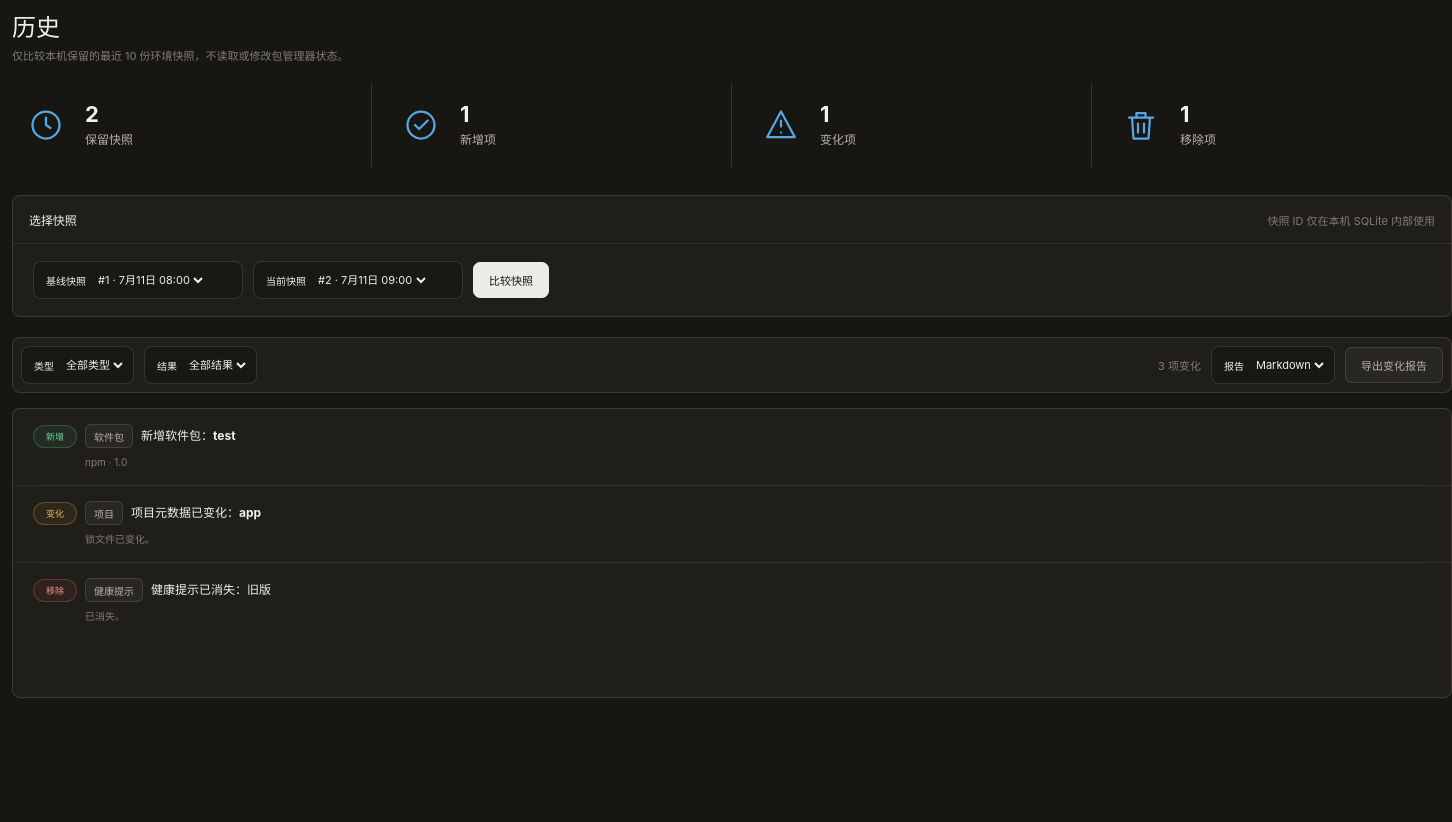
Test: HistoryPage › 拒绝倒序快照并处理变化报告导出
Select "1" in the dropdown labelled "当前快照" at (372, 280), box [314,272,429,288]
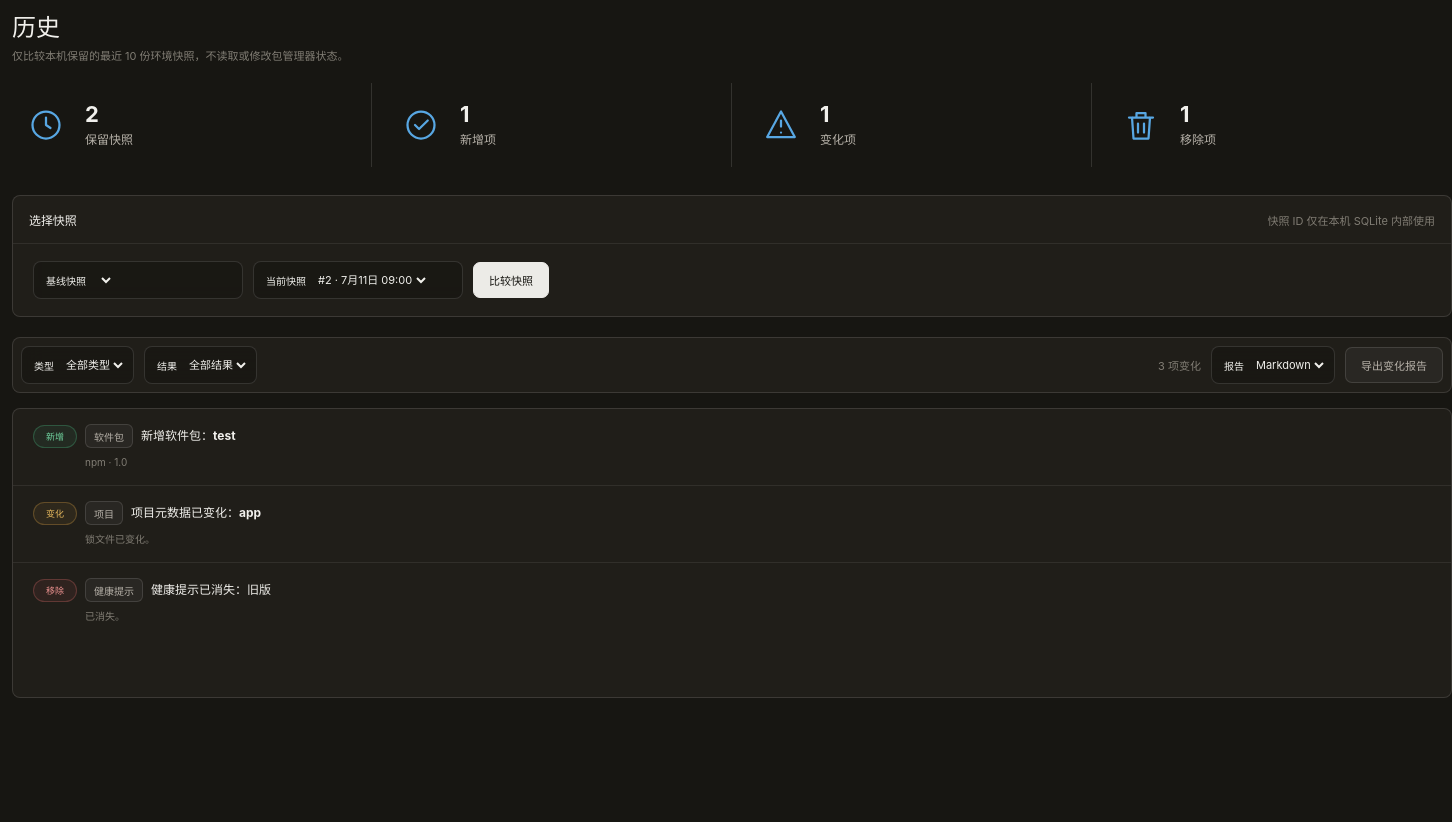
Click the button "比较快照".
click(511, 280)  # box [473,262,549,298]
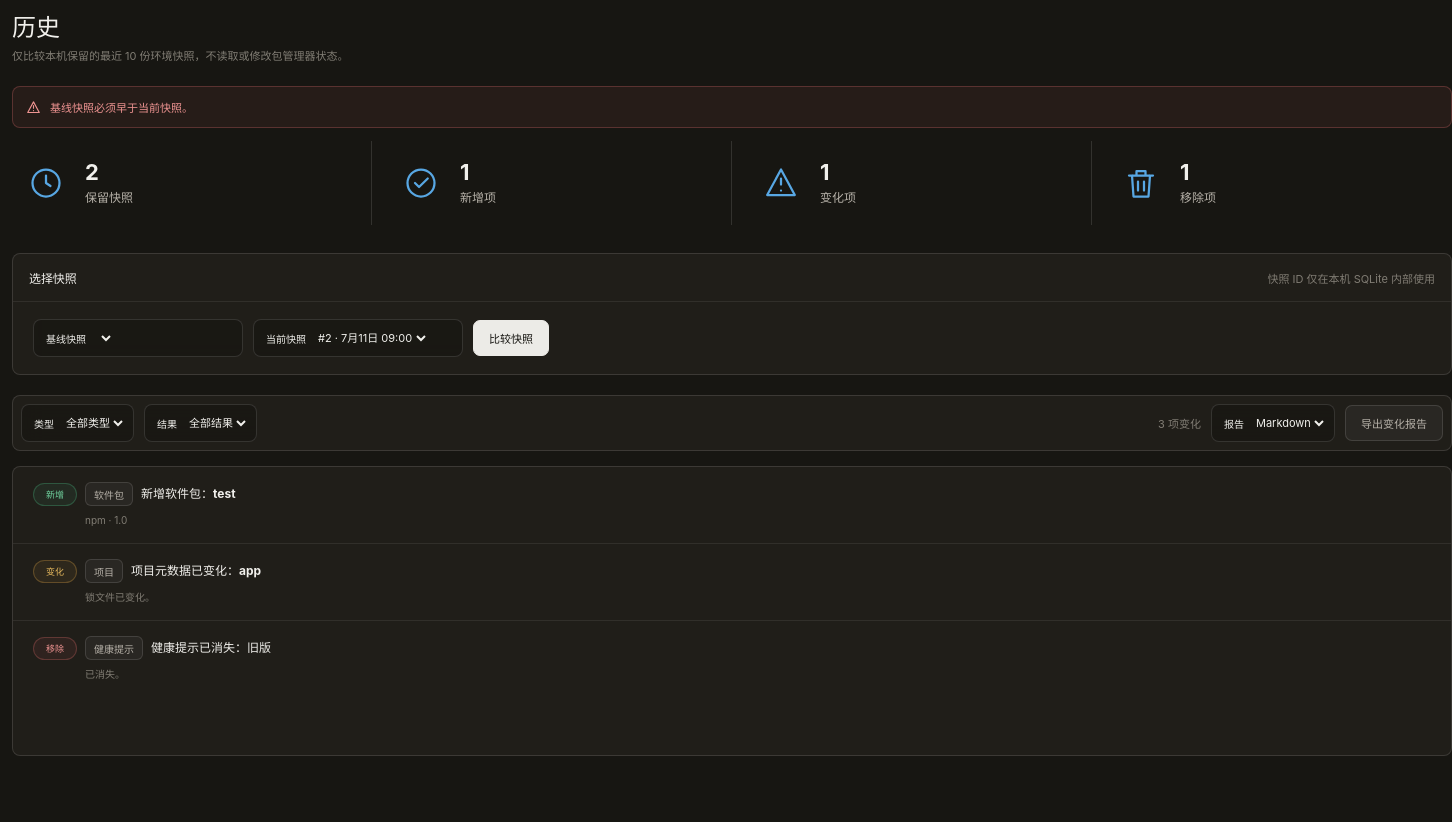
Now the text "基线快照必须早于当前快照。" is shown, box [50,99,193,115]
Select "JSON" in the dropdown named "变化报告格式" at (1290, 423), box [1252,415,1327,431]
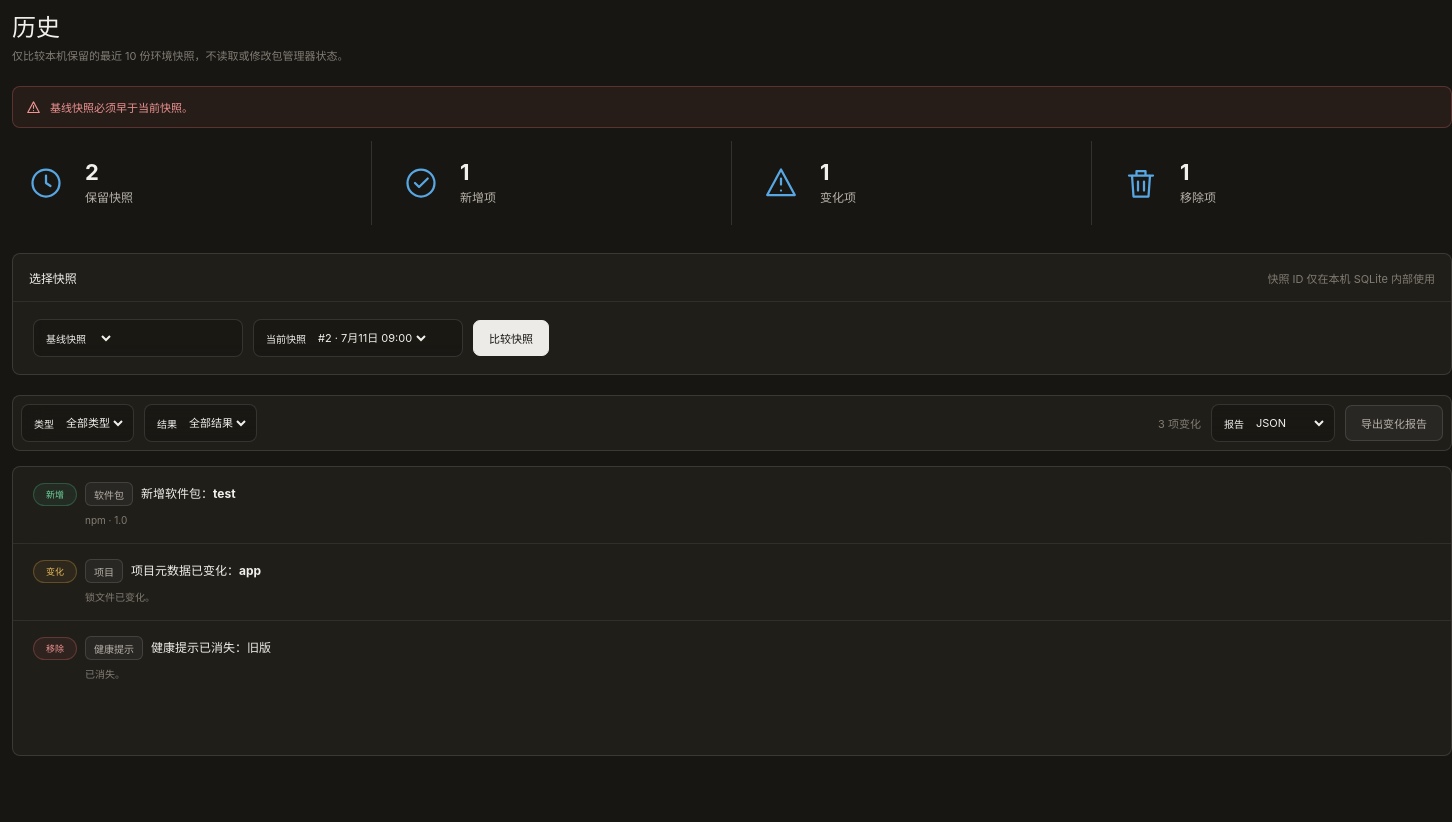
Click the button "导出变化报告".
click(1394, 423)  # box [1345,405,1443,441]
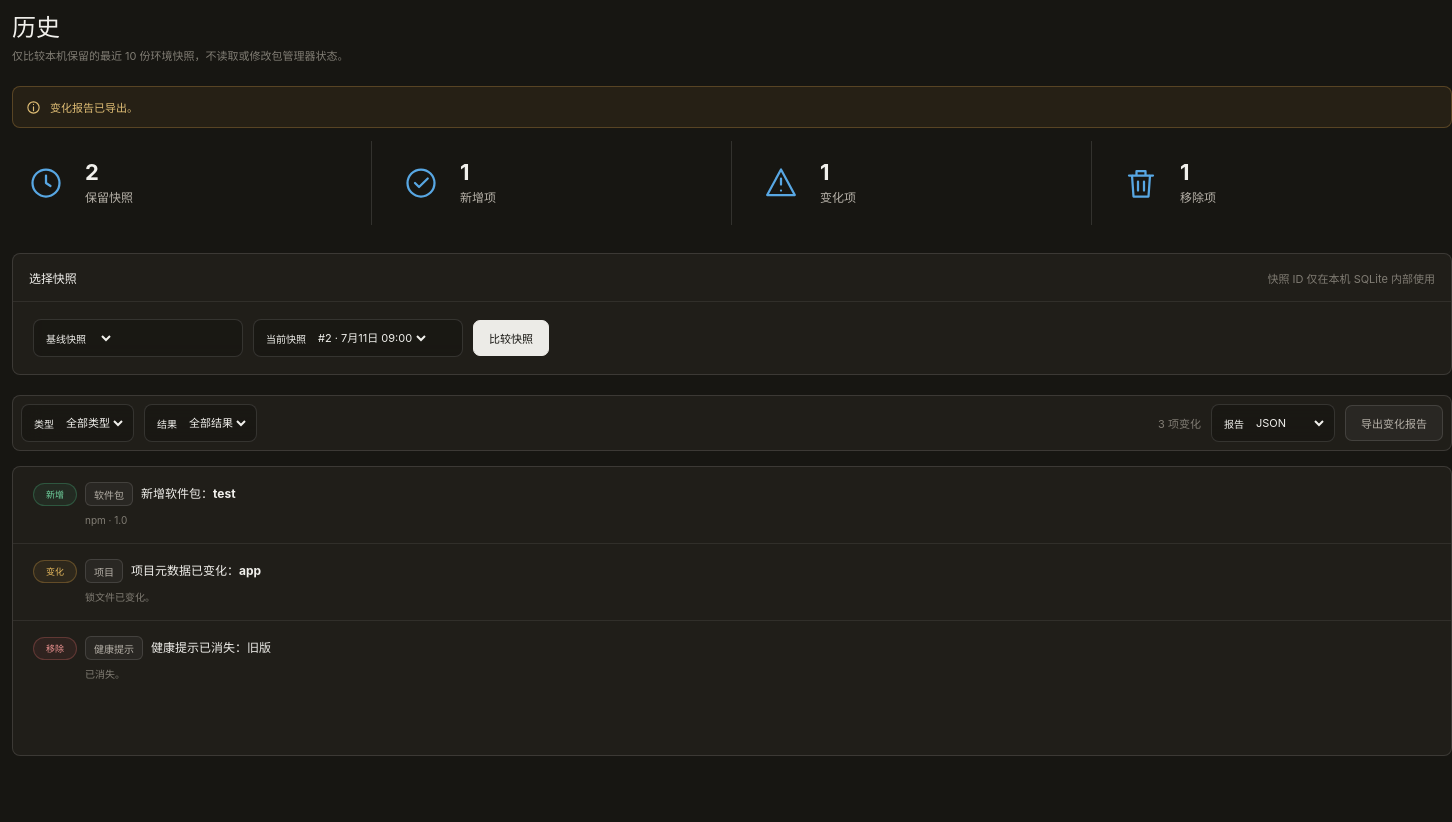
Now the text "变化报告已导出。" is shown, box [50,99,138,115]
